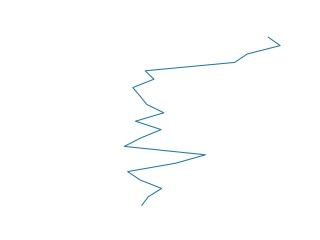crevasseRiverChannelBar: (123, 34, 283, 209)
